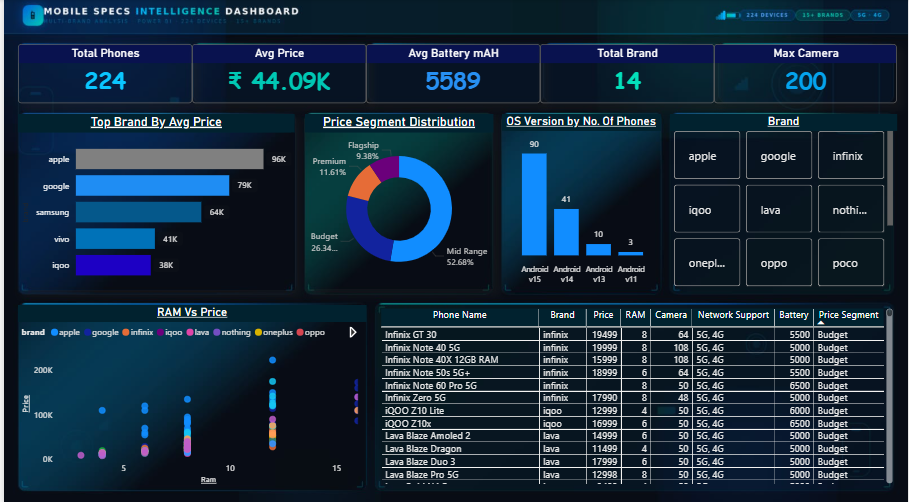

The page's visual inventory and layout, read from the dashboard file:
{"tool":"powerbi","page":{"name":"Page 1","canvas":[1280,720],"ordinal":0},"visuals":[{"type":"card","title":"Total Phones","fields":{"Values":["CountNonNull(device_specs_structured_dataset.phone_name)"]},"box":[20,63.3,246.7,84.4],"z":0},{"type":"card","title":"Avg Price","fields":{"Values":["Avg(device_specs_structured_dataset.price_inr)"]},"box":[266.7,63.3,246.7,84.4],"z":1000},{"type":"card","title":"Avg Battery mAH","fields":{"Values":["Avg(device_specs_structured_dataset.battery_raw)"]},"box":[513.3,63.3,246.7,84.4],"z":2000},{"type":"card","title":"Total Brand","fields":{"Values":["Count(device_specs_structured_dataset.brand)"]},"box":[760,63.3,246.7,84.4],"z":3000},{"type":"card","title":"Max Camera","fields":{"Values":["Max(device_specs_structured_dataset.main_camera)"]},"box":[1005.8,63.8,259.4,84.1],"z":4000},{"type":"clusteredBarChart","title":"Top Brand By Avg Price","fields":{"Category":["device_specs_structured_dataset.brand"],"Y":["Avg(device_specs_structured_dataset.list_price_inr)"]},"box":[19.2,162.8,392.3,250],"z":5000},{"type":"donutChart","title":"Price Segment Distribution","fields":{"Category":["device_specs_structured_dataset.price_seg"],"Y":["CountNonNull(device_specs_structured_dataset.phone_name)"]},"box":[425.9,163,266.7,248.1],"z":6000},{"type":"clusteredColumnChart","title":"OS Version by No. Of Phones","fields":{"Y":["CountNonNull(device_specs_structured_dataset.phone_name)"],"Category":["device_specs_structured_dataset.operating_system"]},"box":[706.2,163,224.7,249.4],"z":7000},{"type":"scatterChart","title":"RAM Vs Price","fields":{"X":["device_specs_structured_dataset.min_ram"],"Y":["device_specs_structured_dataset.list_price_inr"],"Series":["device_specs_structured_dataset.brand"]},"box":[20.5,433.3,493.6,257.7],"z":8000},{"type":"tableEx","fields":{"Values":["device_specs_structured_dataset.phone_name","device_specs_structured_dataset.brand","device_specs_structured_dataset.list_price_inr","device_specs_structured_dataset.min_ram","device_specs_structured_dataset.main_camera","device_specs_structured_dataset.network_support","device_specs_structured_dataset.battery_raw","device_specs_structured_dataset.price_seg"]},"box":[529,433.3,736.2,258],"z":9000},{"type":"advancedSlicerVisual","title":"Brand","fields":{"Values":["device_specs_structured_dataset.brand"]},"box":[943.5,162.3,321.7,249.3],"z":9001}]}

Visuals, with their boxes in screenshot pixels (x1, y1, x2, y2), scaled from the page's 1280x720 canvas onto the 909x502 screenshot:
"Total Phones" card: x1=14, y1=44, x2=189, y2=103
"Avg Price" card: x1=189, y1=44, x2=365, y2=103
"Avg Battery mAH" card: x1=365, y1=44, x2=540, y2=103
"Total Brand" card: x1=540, y1=44, x2=715, y2=103
"Max Camera" card: x1=714, y1=44, x2=898, y2=103
"Top Brand By Avg Price" clusteredBarChart: x1=14, y1=114, x2=292, y2=288
"Price Segment Distribution" donutChart: x1=302, y1=114, x2=492, y2=287
"OS Version by No. Of Phones" clusteredColumnChart: x1=502, y1=114, x2=661, y2=288
"RAM Vs Price" scatterChart: x1=15, y1=302, x2=365, y2=482
tableEx - device_specs_structured_dataset.phone_name x device_specs_structured_dataset.brand: x1=376, y1=302, x2=898, y2=482
"Brand" advancedSlicerVisual: x1=670, y1=113, x2=898, y2=287
